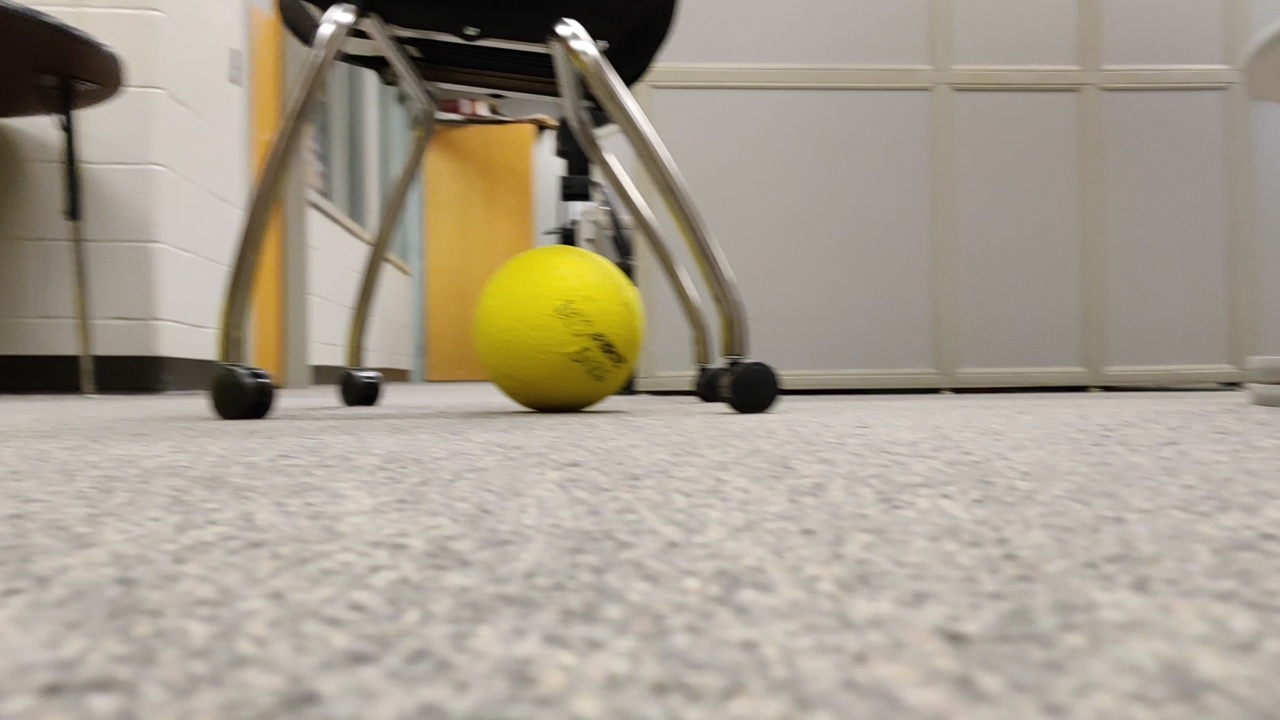Ball: (473, 245, 653, 411)
